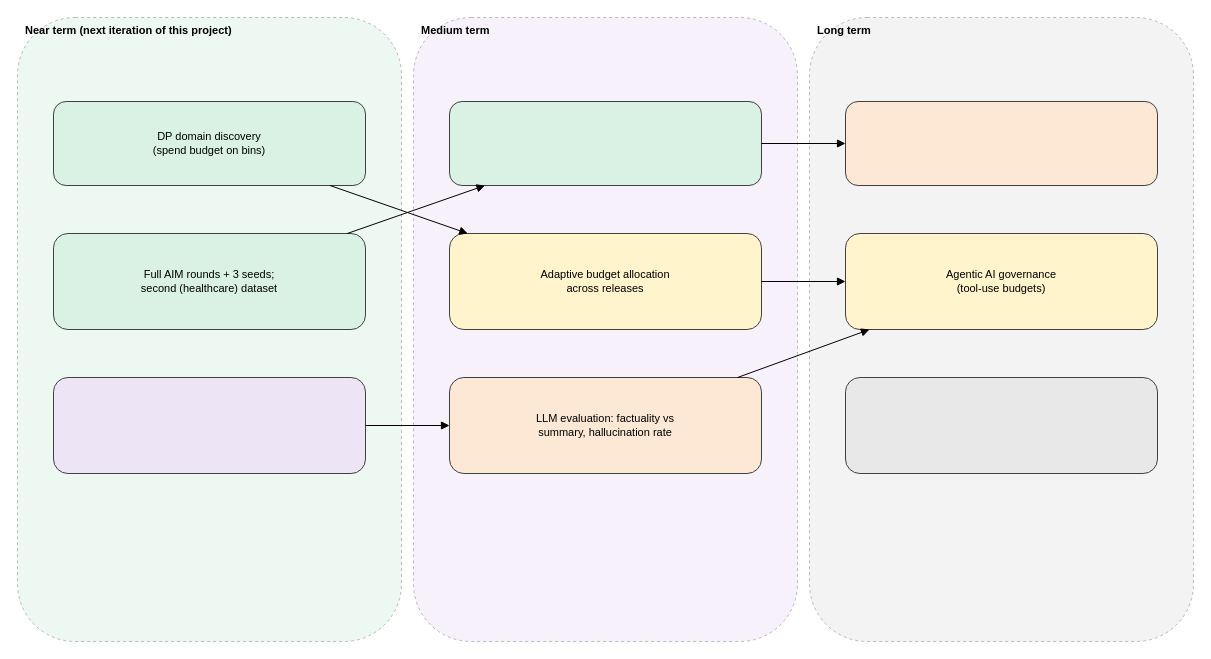
The diagram is 1211 pixels wide and 659 high, and some of its shapes have lost their labels. Each missing label, with the centre of its shape:
"DP-SGD baselines (DP-CTGAN, DP-TVAE)" goes at (605,143).
"Post-quantum secure data-sharing pipelines" goes at (1001,425).
"Privacy-preserving foundation models for tabular data" goes at (1001,143).
"Stronger MIAs (shadow / DOMIAS-style) and auditing" goes at (209,425).
